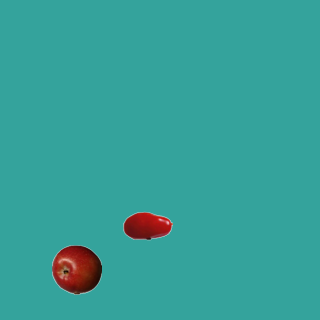Apple Braeburn: (51, 244, 101, 294)
Tomato 2: (122, 200, 172, 250)
